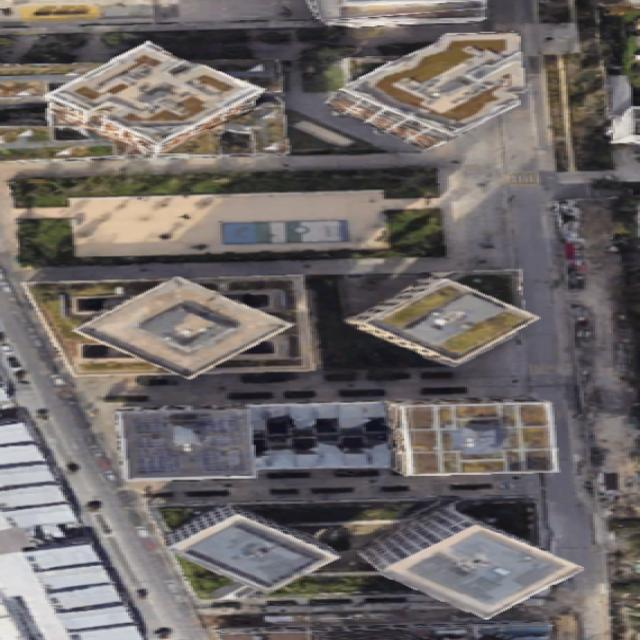immeuble: (318, 5, 547, 188), (43, 17, 269, 188), (348, 478, 586, 640), (67, 247, 296, 413), (346, 250, 537, 391), (153, 486, 344, 615)
